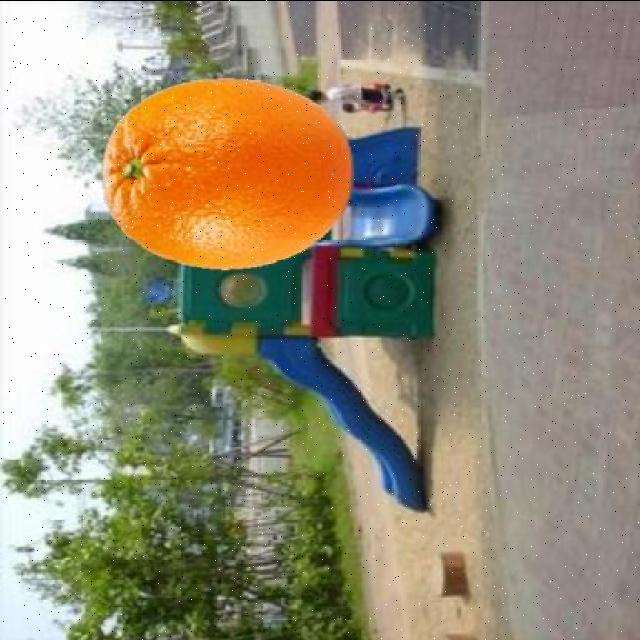Orange: (100, 76, 354, 272)
